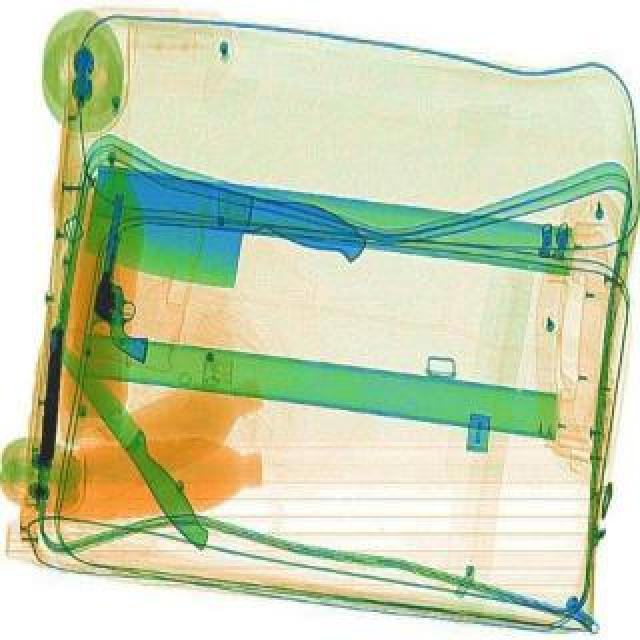gun: (80, 190, 172, 356), (32, 322, 70, 462)
knife: (76, 158, 372, 314), (42, 324, 220, 554)
